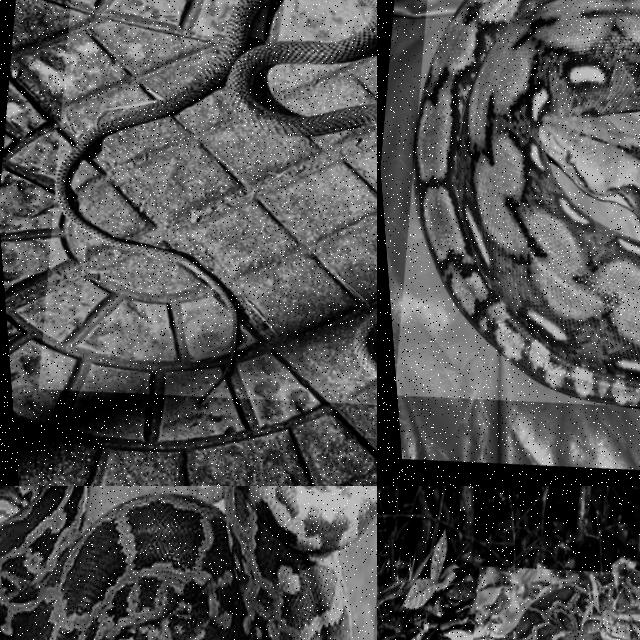Chrysopelea ornata: (54, 0, 376, 375)
Malayopython reticulatus: (413, 0, 639, 406)
Python bivittatus: (0, 486, 376, 639), (515, 574, 639, 639)
